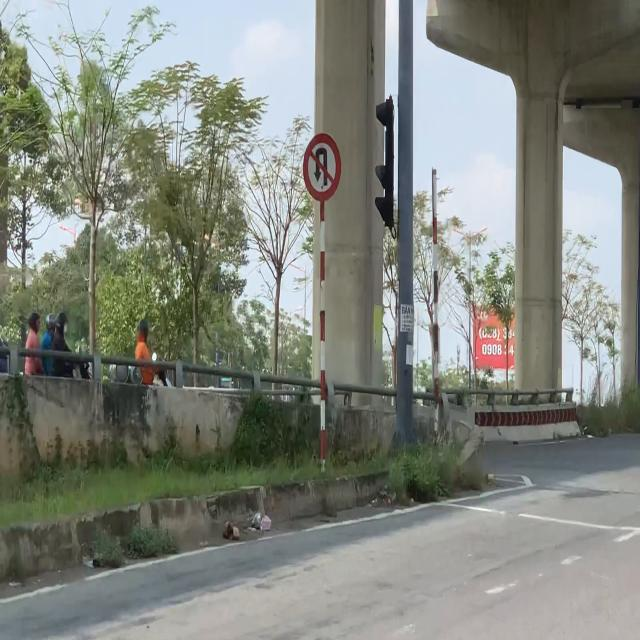Cam quay dau xe: (302, 131, 342, 204)
